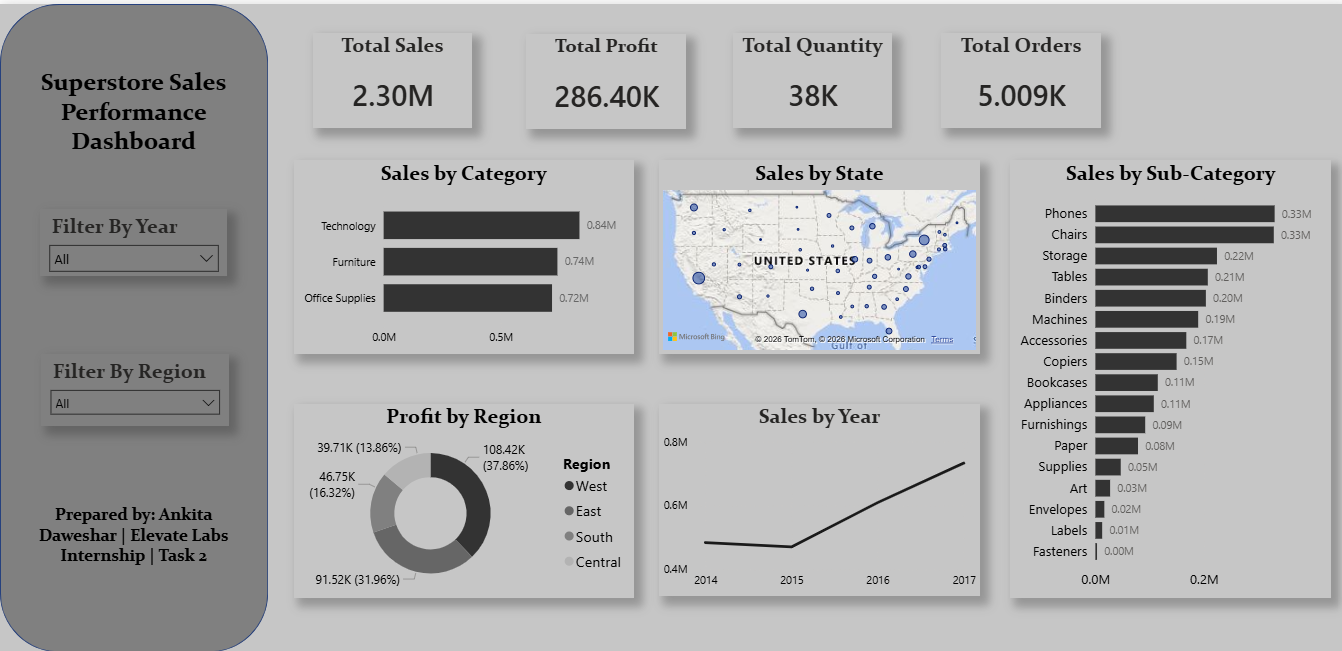

What the dashboard file says about the page in this screenshot:
{"tool":"powerbi","page":{"name":"Sales Dashboard","canvas":[1500,720],"ordinal":0},"visuals":[{"type":"cardVisual","title":"Total Sales","fields":{"Data":["Sum(Sample - Superstore.Sales)"]},"box":[346.5,32.6,177.9,105.8],"z":0},{"type":"cardVisual","title":"Total Profit","fields":{"Data":["Sum(Sample - Superstore.Profit)"]},"box":[584.9,33.7,177.9,105.8],"z":1000},{"type":"cardVisual","title":"Total Quantity","fields":{"Data":["Sum(Sample - Superstore.Quantity)"]},"box":[812.8,32.6,177.9,105.8],"z":2000},{"type":"cardVisual","title":"Total Orders","fields":{"Data":["Count(Sample - Superstore.Order ID)"]},"box":[1045.4,32.6,177.9,105.8],"z":3000},{"type":"clusteredBarChart","title":"Sales by Category","fields":{"Category":["Sample - Superstore.Category"],"Y":["Sum(Sample - Superstore.Sales)"]},"box":[325.7,173.1,377.5,215.3],"z":4000},{"type":"lineChart","title":"Sales by Year","fields":{"Category":["Sample - Superstore.Order Date.Variation.Date Hierarchy.Year","Sample - Superstore.Order Date.Variation.Date Hierarchy.Quarter","Sample - Superstore.Order Date.Variation.Date Hierarchy.Month","Sample - Superstore.Order Date.Variation.Date Hierarchy.Day"],"Y":["Sum(Sample - Superstore.Sales)"]},"box":[731.4,444.2,357,214],"z":5000},{"type":"map","title":"Sales by State","fields":{"Category":["Sample - Superstore.State"],"Size":["Sum(Sample - Superstore.Sales)"]},"box":[731.7,173.1,357,215.3],"z":6000},{"type":"donutChart","title":" Profit by Region","fields":{"Category":["Sample - Superstore.Region"],"Y":["Sum(Sample - Superstore.Profit)"]},"box":[325.6,444.2,377.9,215.1],"z":7000},{"type":"shape","box":[0,0,297.7,719.8],"z":8000},{"type":"slicer","fields":{"Values":["Sample - Superstore.Order Date.Variation.Date Hierarchy.Year"]},"box":[44.2,227.9,208.1,74.4],"z":9000},{"type":"slicer","fields":{"Values":["Sample - Superstore.Region"]},"box":[45.3,388.4,208.1,80.2],"z":10000},{"type":"textbox","box":[22.1,65.1,252.3,112.8],"z":11000},{"type":"textbox","box":[22.1,551.2,252.3,88.4],"z":12000},{"type":"clusteredBarChart","title":"Sales by Sub-Category","fields":{"Y":["Sum(Sample - Superstore.Sales)"],"Category":["Sample - Superstore.Sub-Category"]},"box":[1121.5,173.1,357,486.5],"z":12001}]}

Visuals, with their boxes in screenshot pixels (x1, y1, x2, y2), scaled from the page's 1500x720 canvas onto the 1342x651 screenshot:
"Total Sales" cardVisual: [x1=310, y1=29, x2=469, y2=125]
"Total Profit" cardVisual: [x1=523, y1=30, x2=682, y2=126]
"Total Quantity" cardVisual: [x1=727, y1=29, x2=886, y2=125]
"Total Orders" cardVisual: [x1=935, y1=29, x2=1094, y2=125]
"Sales by Category" clusteredBarChart: [x1=291, y1=157, x2=629, y2=351]
"Sales by Year" lineChart: [x1=654, y1=402, x2=974, y2=595]
"Sales by State" map: [x1=655, y1=157, x2=974, y2=351]
" Profit by Region" donutChart: [x1=291, y1=402, x2=629, y2=596]
shape: [x1=0, y1=0, x2=266, y2=650]
slicer - Sample - Superstore.Order Date.Variation.Date Hierarchy.Year: [x1=40, y1=206, x2=226, y2=273]
slicer - Sample - Superstore.Region: [x1=41, y1=351, x2=227, y2=424]
textbox: [x1=20, y1=59, x2=245, y2=161]
textbox: [x1=20, y1=498, x2=245, y2=578]
"Sales by Sub-Category" clusteredBarChart: [x1=1003, y1=157, x2=1323, y2=596]
